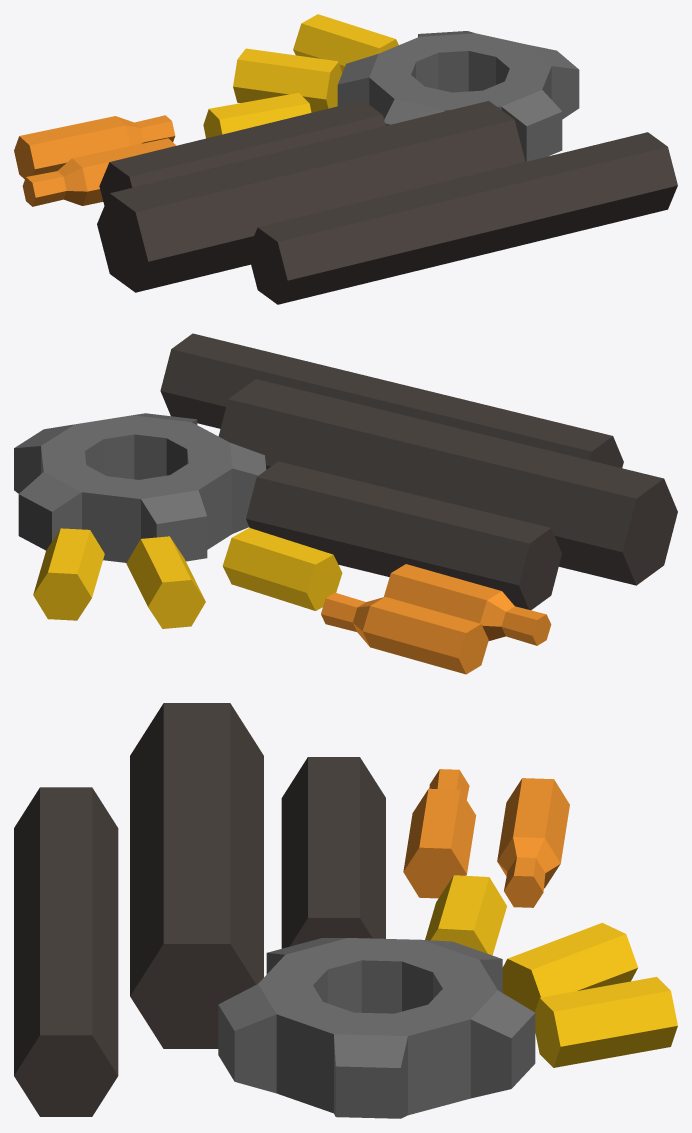
The model's file is metalScrap_3d.glb.
The picture shows the model from 3 angles, top to bottom: view 1: azimuth 30°, elevation 25°; view 2: azimuth 150°, elevation 25°; view 3: azimuth 270°, elevation 25°; orthographic projection. The views are drawn at different scales.
Visible parts, largest first — view 1: ammoBrassLowPoly; view 2: ammoBrassLowPoly; view 3: ammoBrassLowPoly.
Boxes of the visible parts, x1=… form: ammoBrassLowPoly: x1=14, y1=14, x2=677, y2=304; ammoBrassLowPoly: x1=14, y1=333, x2=677, y2=674; ammoBrassLowPoly: x1=14, y1=703, x2=677, y2=1118.
Size of the model in its own units: 0.2508 by 0.038 by 0.2161.
Materials: 1 (1 with a texture image).
